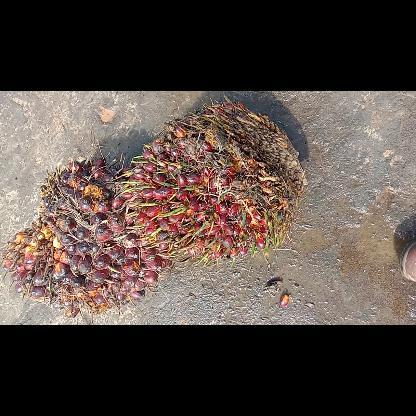Kurang masak: (119, 98, 305, 264)
TBS masak: (3, 156, 172, 315)
